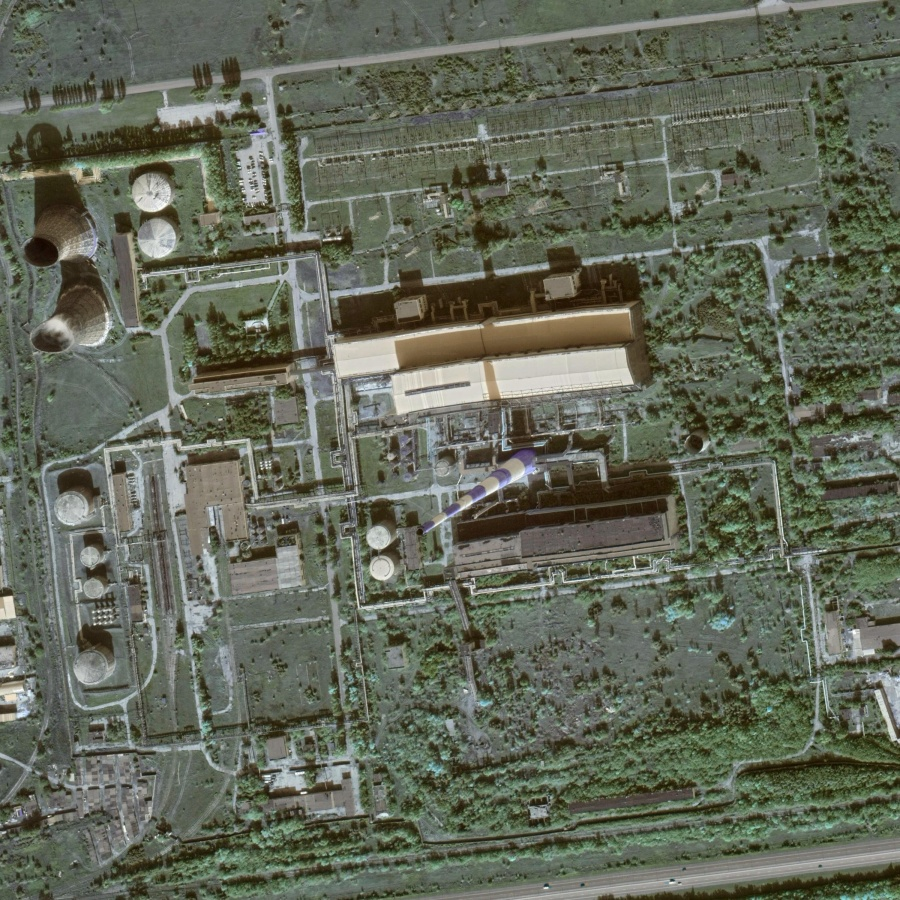PowerPlant: (15, 150, 669, 741)
